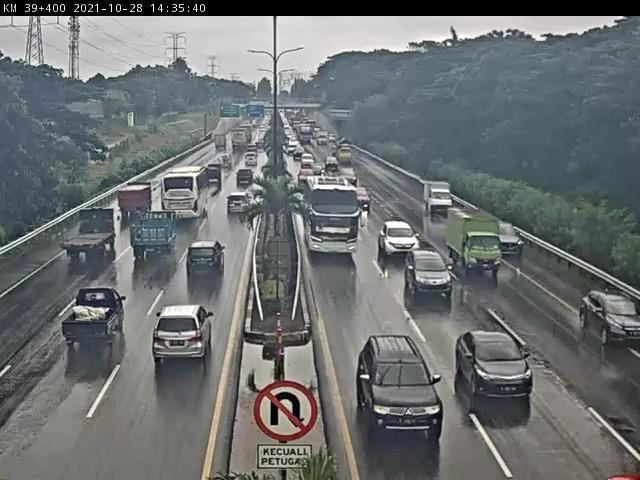bus: (305, 177, 358, 249), (163, 169, 212, 221)
car: (358, 337, 444, 430), (457, 330, 535, 397), (64, 289, 127, 350), (155, 306, 216, 369), (578, 293, 640, 343), (406, 250, 453, 294), (188, 243, 226, 280), (380, 223, 419, 255), (498, 225, 525, 255), (425, 182, 449, 209), (229, 194, 254, 217), (236, 171, 255, 188), (353, 189, 370, 206), (215, 156, 231, 171), (244, 153, 258, 167), (298, 169, 313, 182), (325, 155, 338, 168), (300, 154, 314, 165)
truck: (448, 210, 503, 272), (60, 208, 122, 260), (133, 213, 178, 262), (118, 184, 156, 219), (230, 131, 248, 153), (337, 143, 354, 164), (205, 167, 222, 187)
